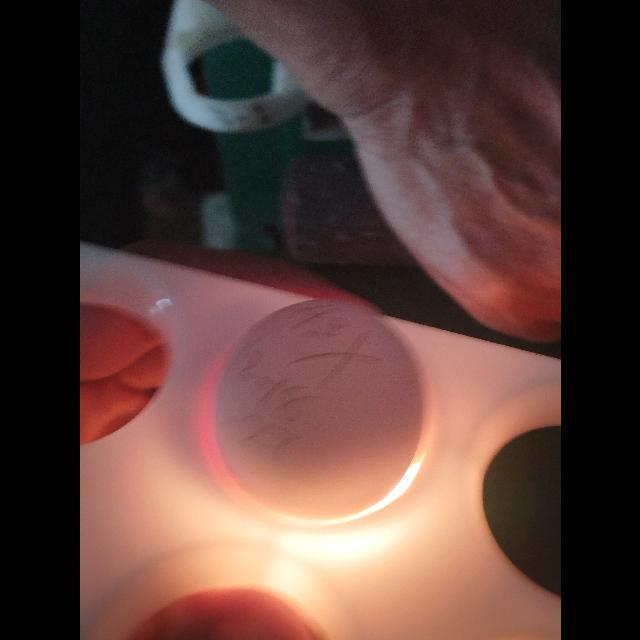Fertile: (206, 292, 428, 526)
